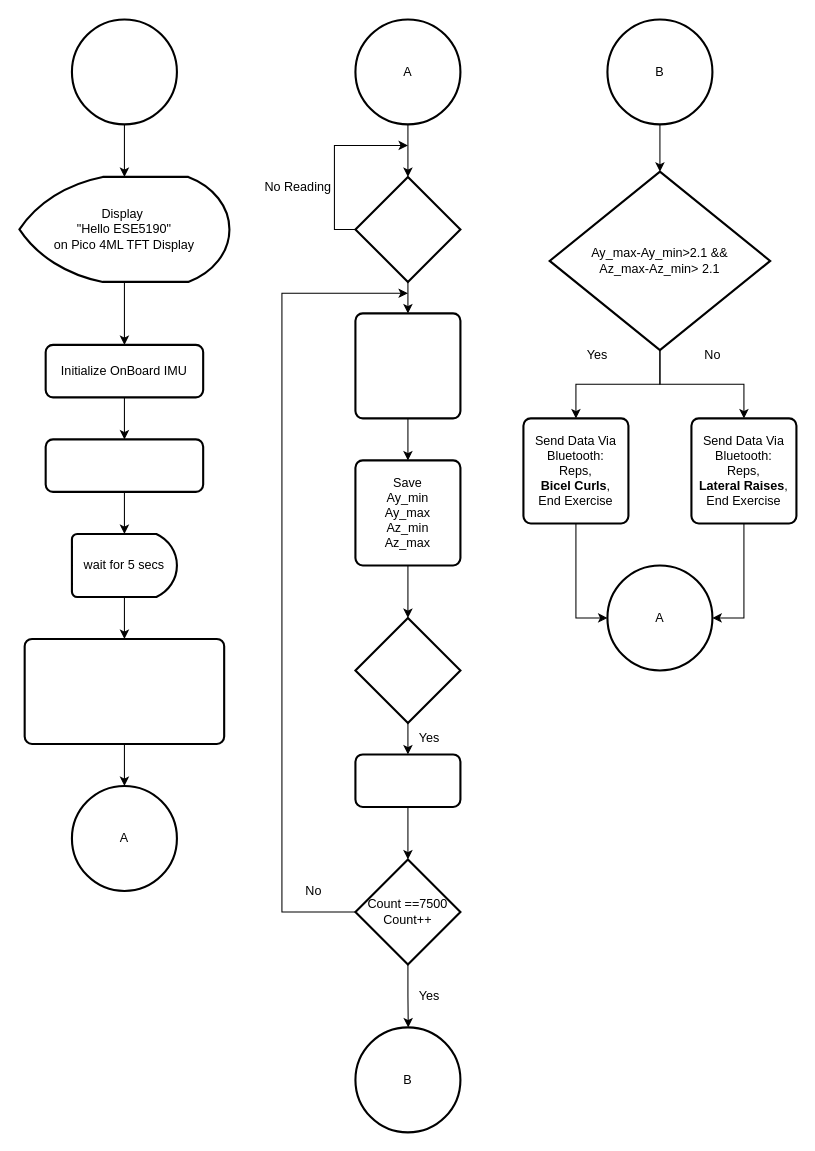
The diagram is 815 pixels wide and 1151 high, and some of its shapes have lost their labels. Here are the shapes that lost their labels. From the top down, the centre of each, then its label:
At point 123,71: "Power Up".
At point 407,228: "Read RFID".
At point 407,365: "Read OnBoard IMU(Gx,Gy,Gz, Ax,Ay,Az)".
At point 124,465: "Initialize UART".
At point 407,669: "Zero Crossing Gx".
At point 124,690: "GUI Initialization Message Sent Via Bluetooth".
At point 407,780: "Reps++".
